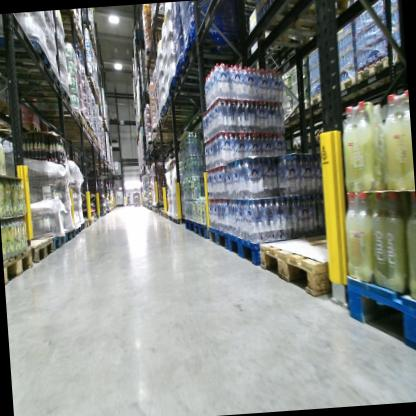pallet: (259, 223, 348, 303), (344, 269, 416, 362), (226, 222, 325, 282), (256, 0, 370, 49), (179, 20, 242, 74), (0, 70, 71, 110), (172, 50, 240, 87), (0, 52, 61, 91), (0, 32, 54, 75), (169, 73, 223, 109), (163, 91, 208, 121), (357, 57, 391, 96), (3, 245, 37, 284), (0, 113, 44, 143), (36, 101, 84, 127), (291, 99, 325, 128), (332, 74, 360, 105), (54, 15, 84, 42), (205, 224, 231, 254), (32, 237, 55, 266), (54, 32, 87, 52), (279, 106, 303, 130), (307, 89, 331, 112), (41, 232, 65, 254), (390, 47, 406, 78), (149, 10, 169, 30), (58, 227, 75, 250), (194, 219, 209, 241), (69, 222, 82, 240), (185, 218, 197, 235), (76, 219, 87, 234), (172, 214, 185, 224), (84, 218, 92, 228), (88, 217, 95, 226), (160, 209, 165, 218), (165, 211, 169, 221), (169, 212, 172, 222)
pallet_truck: (130, 183, 144, 209)
